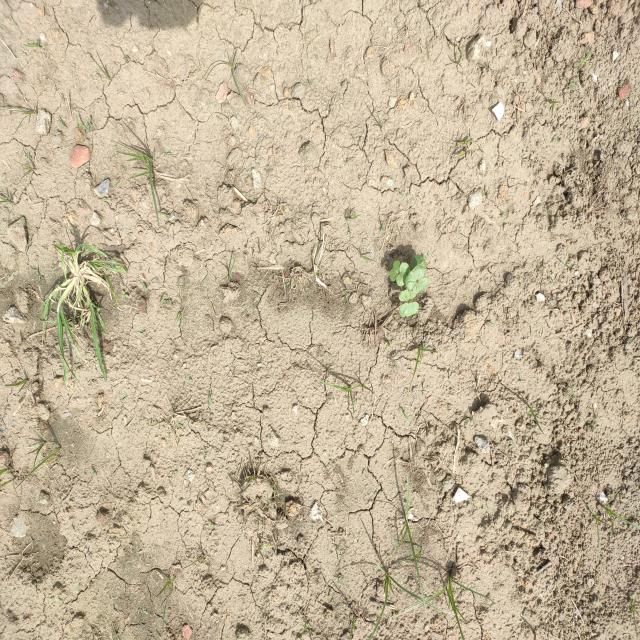seedling_s2: (405, 265, 425, 290), (396, 262, 409, 287), (399, 301, 419, 317), (410, 254, 426, 271), (412, 278, 428, 294), (389, 261, 400, 281), (398, 290, 416, 301)
